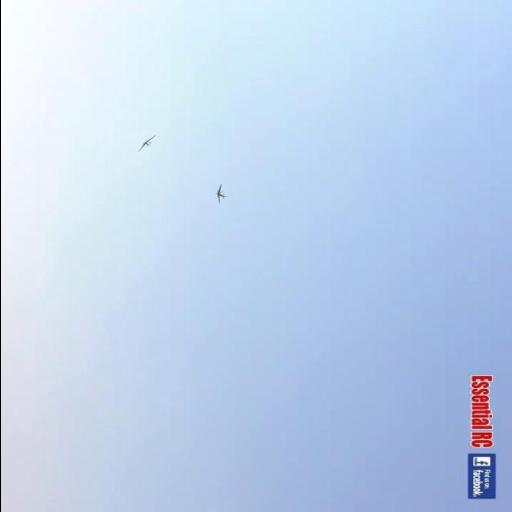uav: (134, 134, 158, 152), (214, 184, 226, 204)
